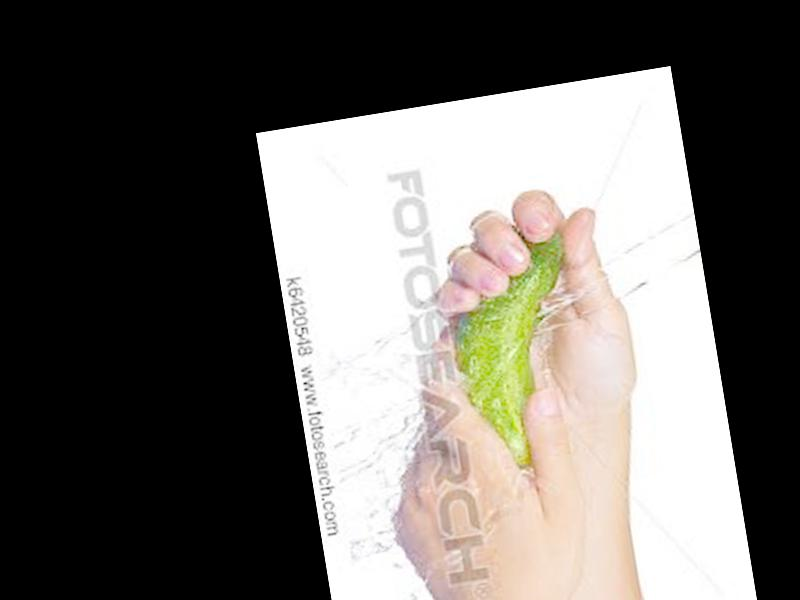Cucumber: (434, 228, 599, 483)
